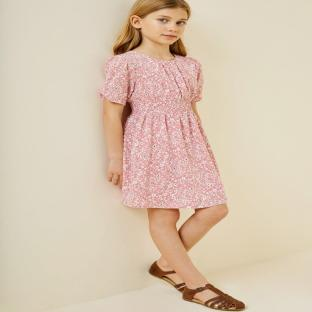Human: (99, 0, 244, 310)
